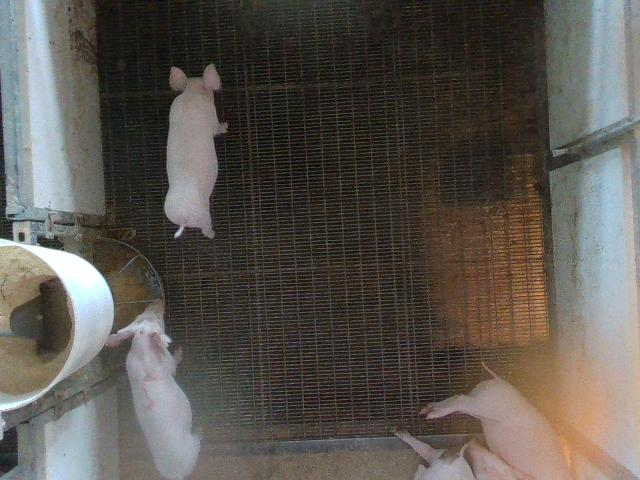pig-5: (109, 301, 200, 479)
